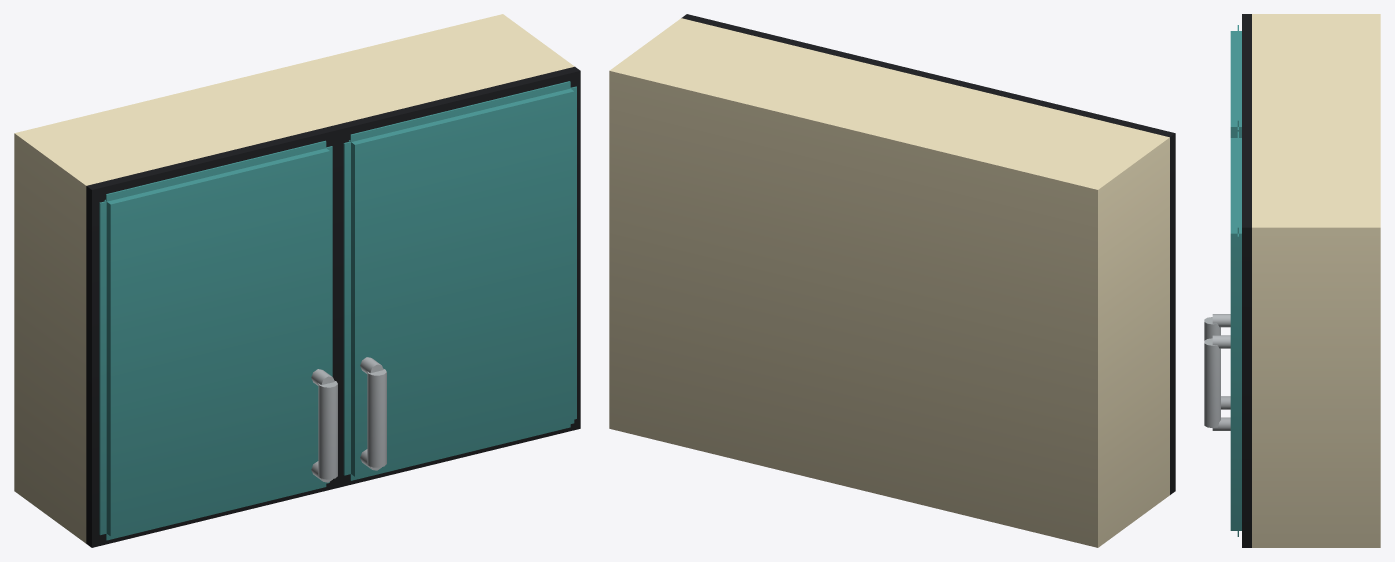
The model's file is KitCab_Wall_Door_10.glb.
The picture shows the model from 3 angles, left to right: view 1: azimuth 30°, elevation 25°; view 2: azimuth 150°, elevation 25°; view 3: azimuth 270°, elevation 25°; orthographic projection. The views are drawn at different scales.
Parts seen in each view (by area): view 1: SM_KitCab_Wall_Door_10; view 2: SM_KitCab_Wall_Door_10; view 3: SM_KitCab_Wall_Door_10.
Part boxes in pixels (x1,y1,x2,y2): SM_KitCab_Wall_Door_10: (14, 14, 580, 547); SM_KitCab_Wall_Door_10: (609, 14, 1175, 547); SM_KitCab_Wall_Door_10: (1204, 14, 1380, 547).
Size of the model in its own units: 1 by 0.7 by 0.3495.
Materials: 1 (1 with a texture image).
